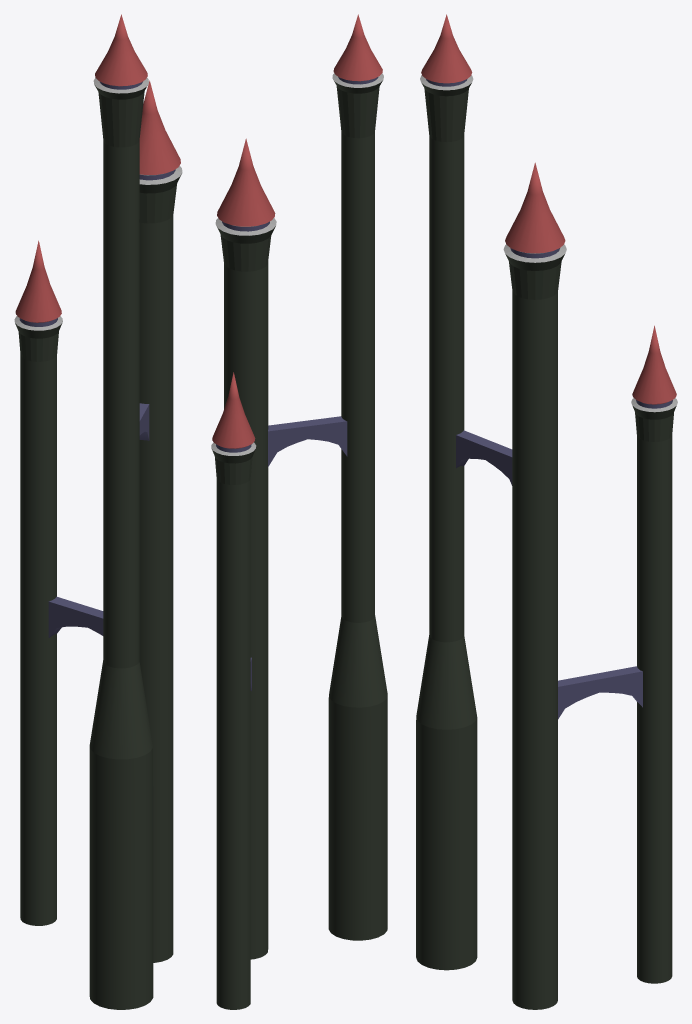
File: ForwardTower2.fbx
3 renders of one model, left to right at view 1: azimuth 30°, elevation 25°; view 2: azimuth 150°, elevation 25°; view 3: azimuth 270°, elevation 25°, orthographic. The views are drawn at different scales.
Visible parts, largest first — view 1: ForwardTower2; view 2: ForwardTower2; view 3: ForwardTower2.
Part boxes in pixels (<box>): ForwardTower2: <box>14,14,182,1009</box>; ForwardTower2: <box>211,14,387,1009</box>; ForwardTower2: <box>416,14,677,1009</box>.
Size of the model in its own units: 10.63 by 77 by 19.21.
